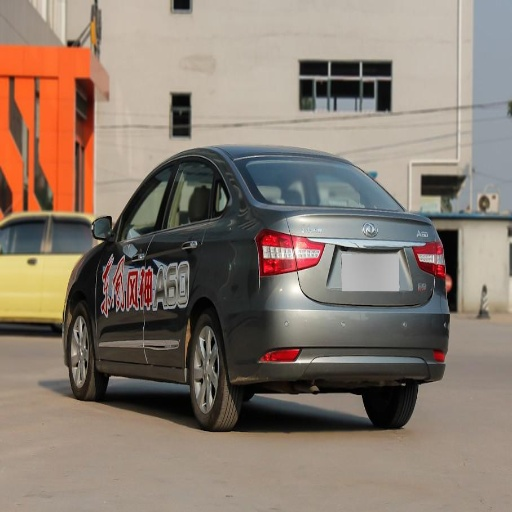back_bumper: (223, 275, 451, 389)
back_glass: (235, 153, 398, 209)
back_left_door: (144, 155, 218, 364)
